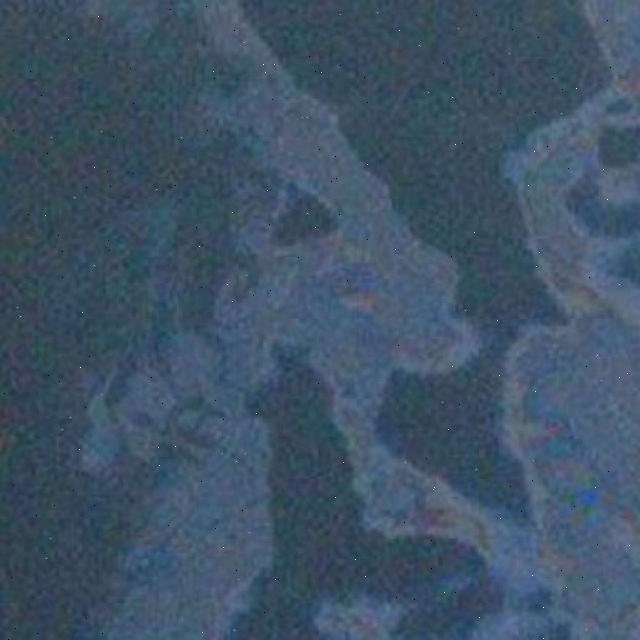oil: (72, 5, 639, 640)
